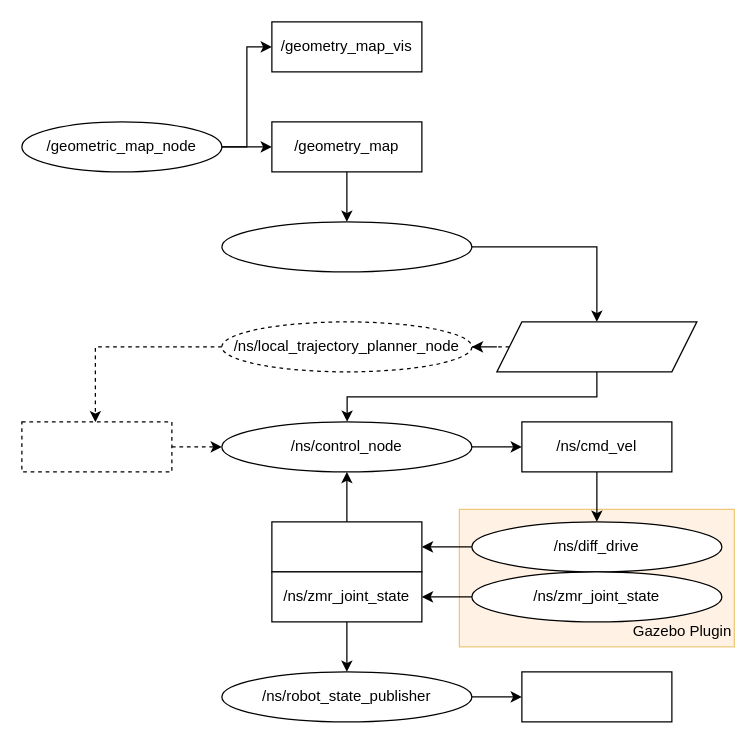
The diagram is 756 pixels wide and 744 high, and some of its shapes have lost their labels. The centre of each missing label's shape, as x and y in pixels:
"/get_robot_schedule" goes at point (596, 346).
"/global_path_coordinate_node" goes at point (346, 246).
"/ns/local_reference" goes at point (96, 446).
"/ns/odom" goes at point (346, 546).
"/ns/robot_description" goes at point (596, 696).
